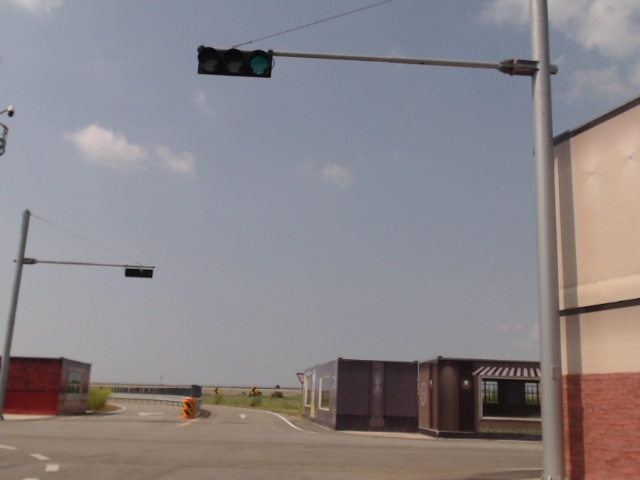green_3: (197, 46, 273, 78)
